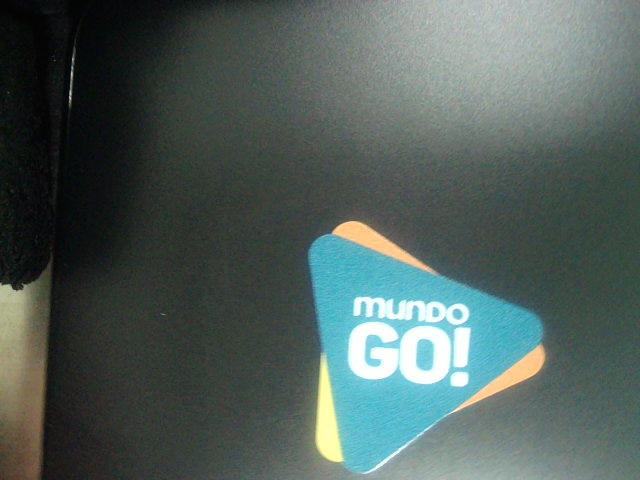AP_IPGMundoGO: (275, 203, 554, 476)
